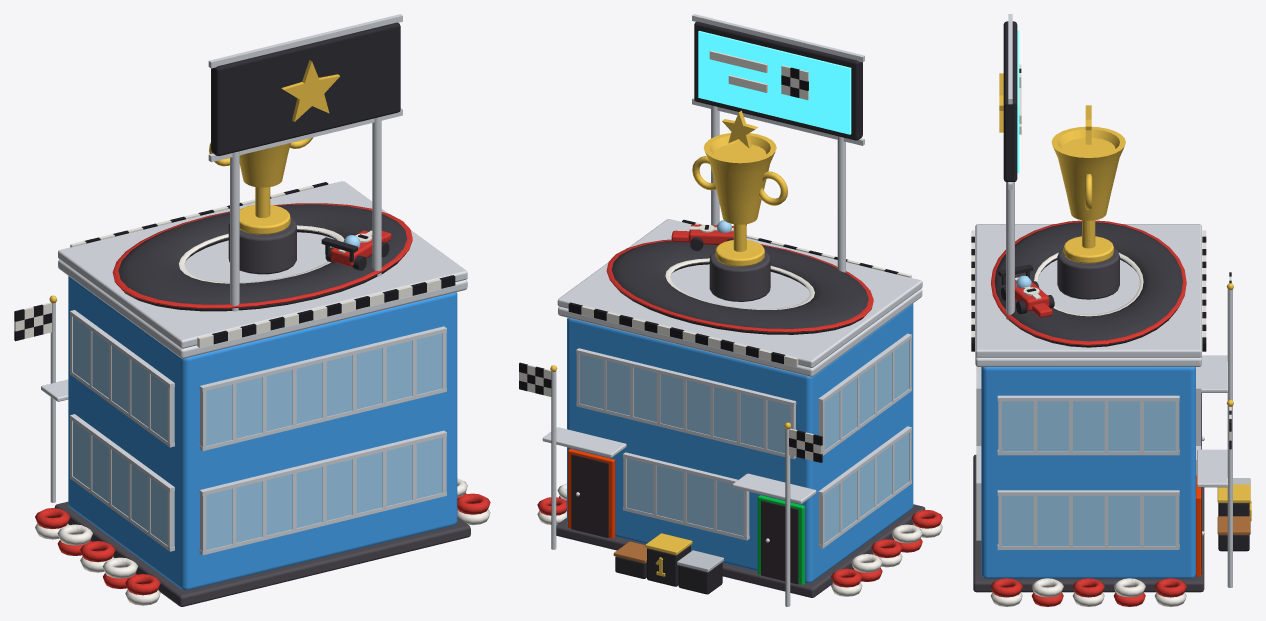
Rendered from building_driving_center_t3.glb.
3 renders of one model, left to right at view 1: azimuth 30°, elevation 25°; view 2: azimuth 150°, elevation 25°; view 3: azimuth 270°, elevation 25°, orthographic. The views are drawn at different scales.
Parts seen in each view (by area): view 1: Walls, Jumbo.Frame, Roof.Parapet, Track, GB0.Glass, GB1.Glass, Plinth, GL0.Glass, GL1.Glass, Roof.Slab, GB1.Rail, GB0.Rail (+19 smaller); view 2: Walls, Roof.Parapet, Track, GF1.Glass, Jumbo.Screen, GF0.Glass, Trophy.Cup, GL0.Glass, GL1.Glass, Jumbo.Frame, Plinth, Exit.Leaf (+32 smaller); view 3: Walls, Roof.Parapet, Track, GR0.Glass, GR1.Glass, Trophy.Cup, Plinth, Trophy.Plinth, Roof.Slab, GR1.Rail, Jumbo.Frame, Kerb (+23 smaller).
Part boxes in pixels (bbox=[...]): Walls: bbox=[68, 276, 457, 590]; Jumbo.Frame: bbox=[211, 22, 400, 155]; Roof.Parapet: bbox=[58, 181, 467, 348]; Track: bbox=[118, 204, 407, 311]; GB0.Glass: bbox=[206, 437, 442, 550]; GB1.Glass: bbox=[206, 333, 442, 445]; Plinth: bbox=[54, 501, 470, 606]; GL0.Glass: bbox=[73, 421, 167, 545]; GL1.Glass: bbox=[73, 317, 167, 440]; Roof.Slab: bbox=[58, 259, 467, 358]; GB1.Rail: bbox=[199, 326, 446, 451]; GB0.Rail: bbox=[199, 430, 446, 555]; Walls: bbox=[567, 303, 913, 582]; Roof.Parapet: bbox=[557, 219, 922, 367]; Track: bbox=[611, 240, 868, 334]; GF1.Glass: bbox=[580, 354, 790, 453]; Jumbo.Screen: bbox=[698, 31, 851, 134]; GF0.Glass: bbox=[627, 458, 743, 535]; Trophy.Cup: bbox=[703, 133, 776, 224]; GL0.Glass: bbox=[824, 433, 909, 542]; GL1.Glass: bbox=[824, 340, 909, 450]; Jumbo.Frame: bbox=[694, 21, 862, 140]; Plinth: bbox=[556, 504, 925, 597]; Exit.Leaf: bbox=[571, 454, 608, 537]; Walls: bbox=[981, 367, 1195, 578]; Roof.Parapet: bbox=[975, 224, 1201, 357]; Track: bbox=[994, 222, 1182, 347]; GR0.Glass: bbox=[1002, 496, 1175, 546]; GR1.Glass: bbox=[1002, 401, 1175, 451]; Trophy.Cup: bbox=[1051, 126, 1125, 220]; Plinth: bbox=[973, 454, 1204, 592]; Trophy.Plinth: bbox=[1057, 248, 1119, 299]; Roof.Slab: bbox=[975, 356, 1201, 366]; GR1.Rail: bbox=[997, 395, 1179, 455]; Jumbo.Frame: bbox=[1003, 21, 1017, 181]; Kerb: bbox=[991, 220, 1186, 345].
Bounding box in the file's own units: 5.07 × 6.99 × 3.76.
